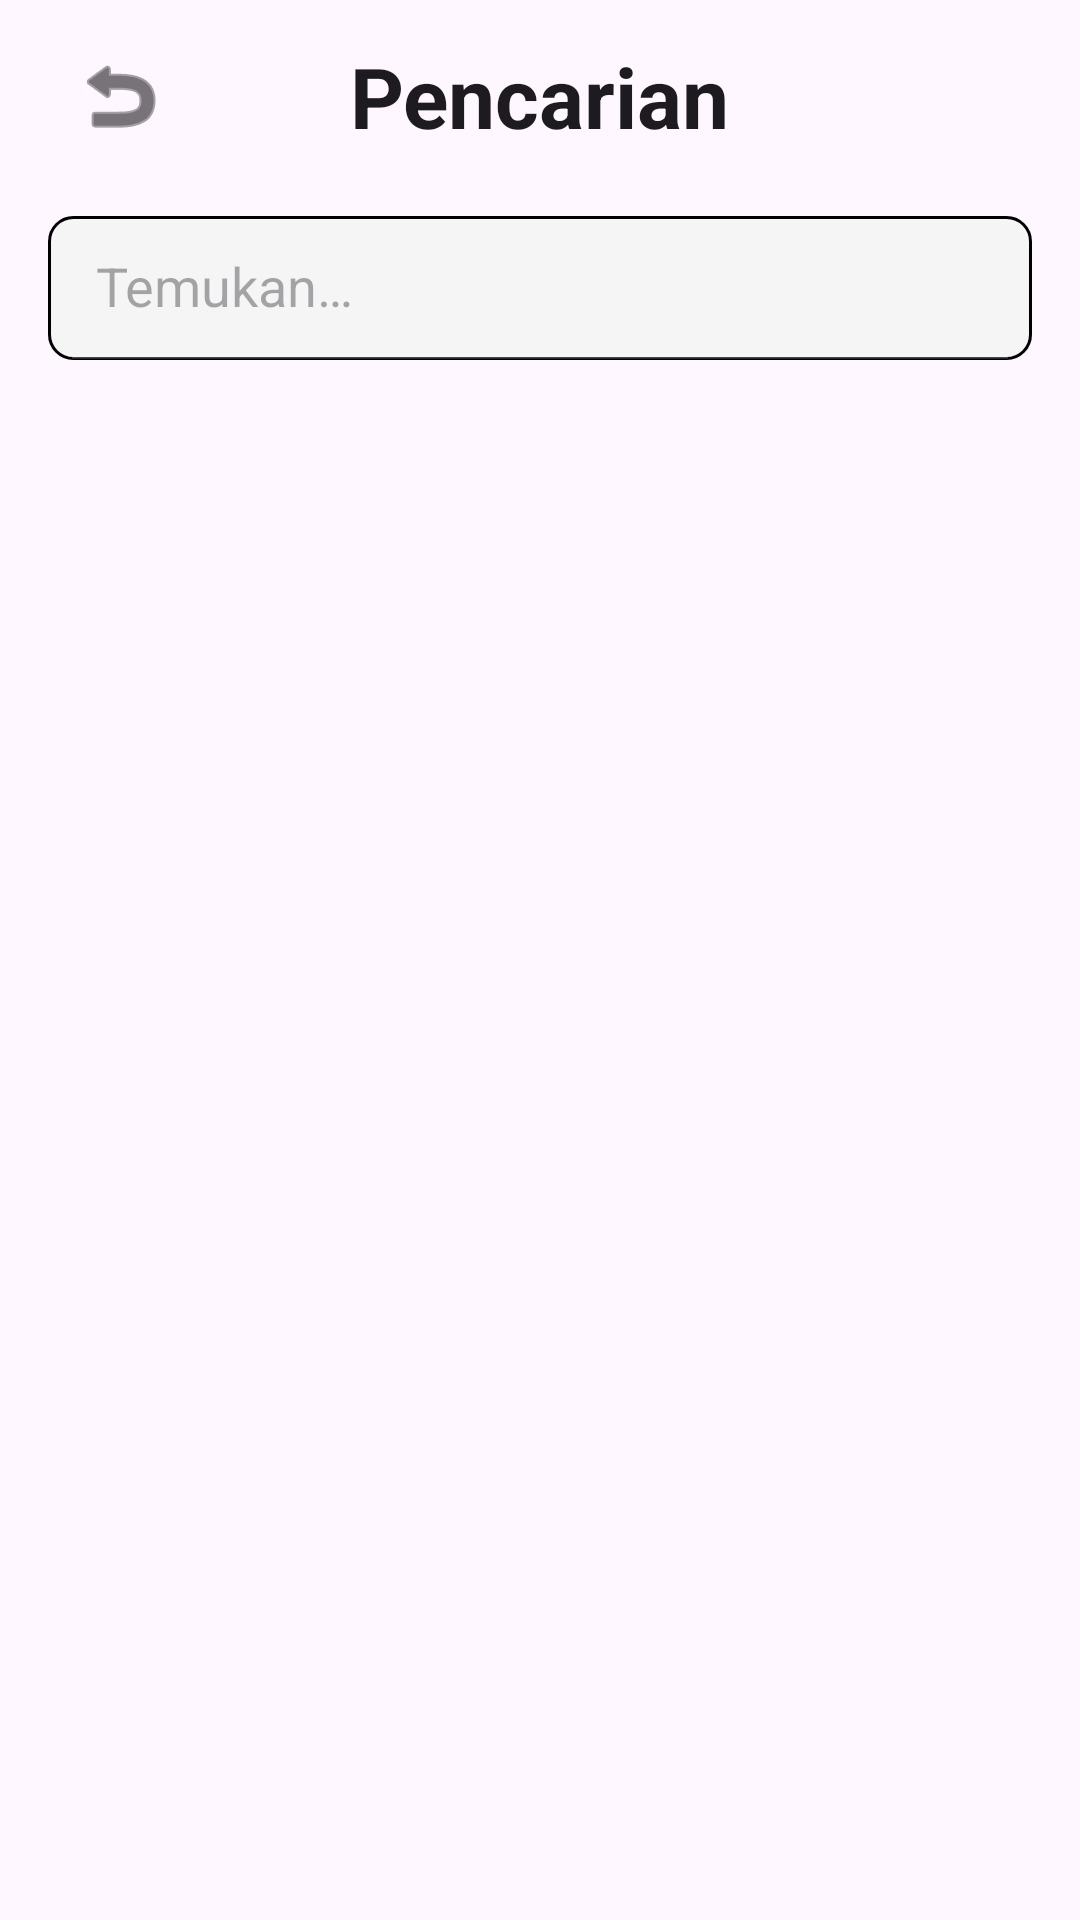

Named icons in this screenshot (1080x1920) and their centers, [x,y]:
revert: [121,96]
